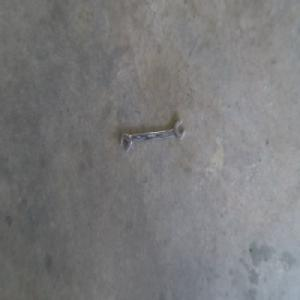Wrench: (120, 119, 189, 152)
